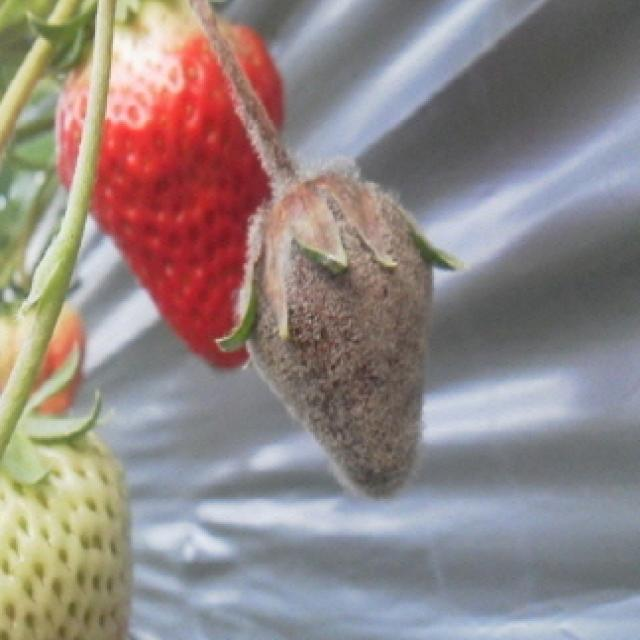Gray Mold: (213, 112, 466, 501)
